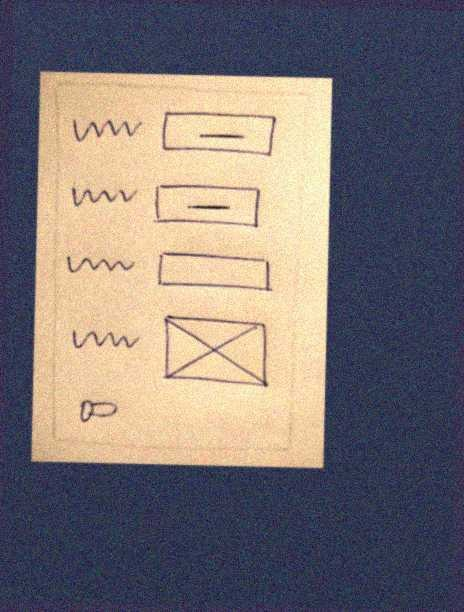button: (156, 108, 283, 160), (151, 179, 264, 230)
image: (157, 311, 272, 394)
switch: (76, 393, 119, 428)
text: (67, 112, 143, 149), (66, 177, 141, 214), (63, 246, 138, 283), (67, 321, 142, 358)
text_input: (154, 245, 278, 299)
